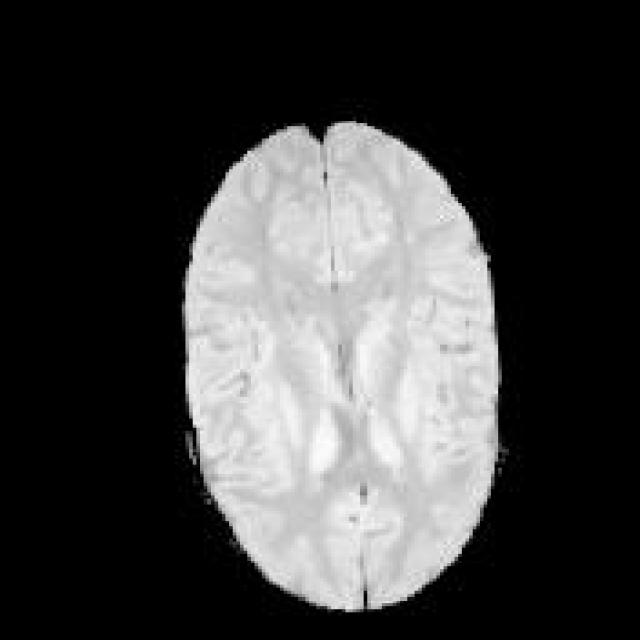CONTROL: (178, 114, 502, 612)
